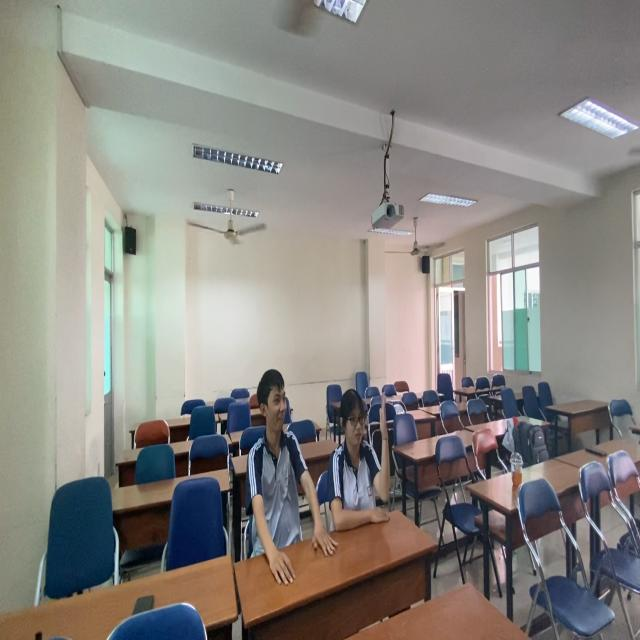raise_hand: (317, 367, 406, 558)
